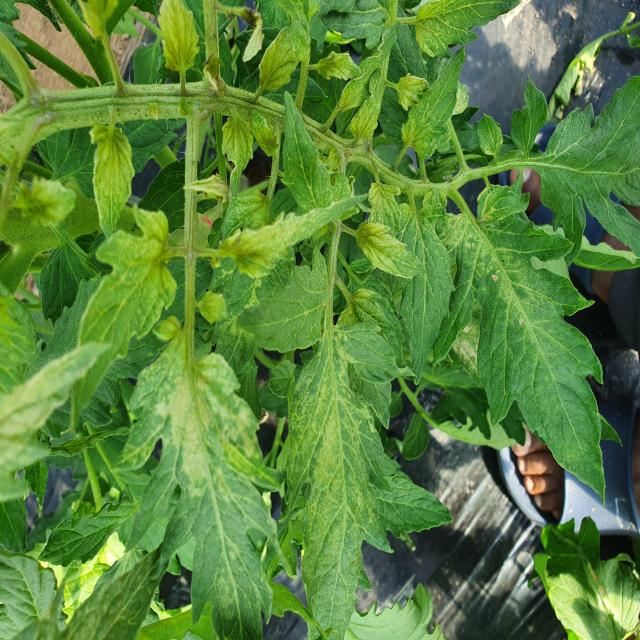Healthy Leaf: (111, 336, 294, 640), (438, 183, 605, 501), (288, 351, 454, 640), (70, 212, 177, 428), (540, 75, 640, 265), (219, 193, 366, 277), (542, 520, 639, 640), (396, 206, 451, 382), (336, 290, 404, 429), (235, 250, 328, 350), (404, 48, 464, 158), (282, 90, 334, 214), (417, 0, 522, 55), (89, 124, 135, 237), (359, 220, 421, 278), (258, 28, 303, 92), (160, 0, 198, 71), (222, 114, 255, 170)
